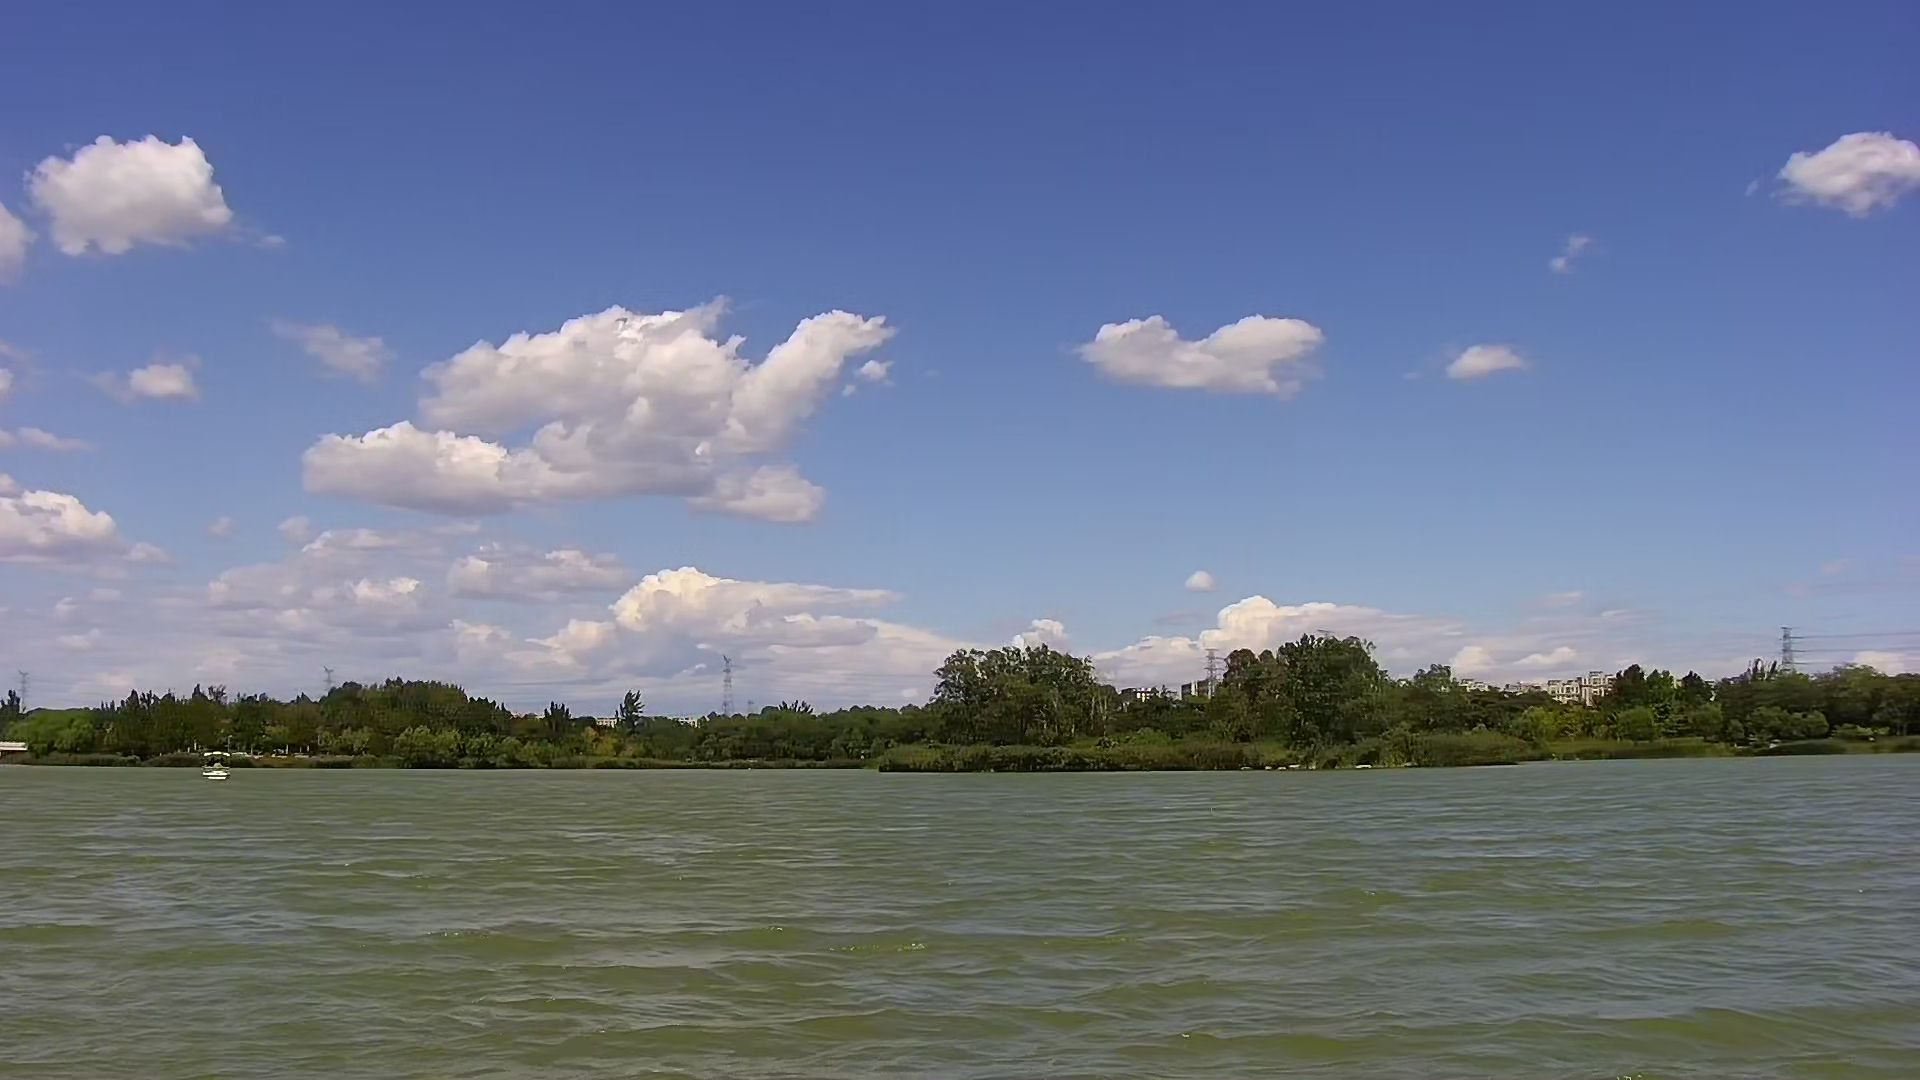boat: (195, 746, 235, 790)
